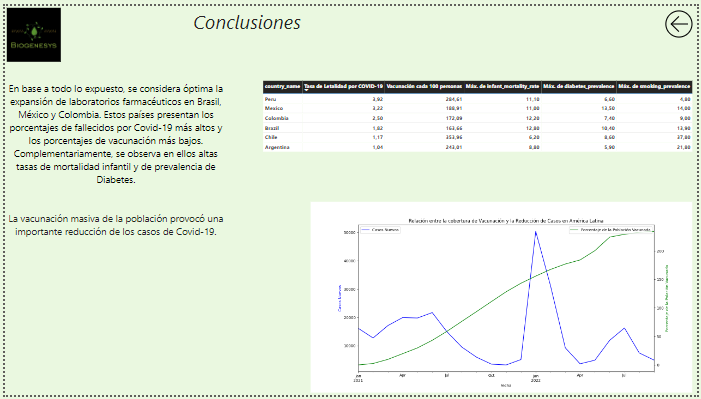

This screenshot's page, from the dashboard's own definition file:
{"tool":"powerbi","page":{"name":"CONCLUSIONES","canvas":[1920,1080],"ordinal":4},"visuals":[{"type":"pythonVisual","fields":{"Values":["Sum(DatosFinales.population)"]},"box":[840,540,1080,540],"z":0},{"type":"textbox","box":[345,0,655,125],"z":1000},{"type":"textbox","box":[0,567.5,615,90],"z":2000},{"type":"tableEx","fields":{"Values":["DatosFinales.country_name","Medidas.Tasa de Letalidad por COVID-19","Medidas.Vacunación cada 100 personas","Max(DatosFinales.infant_mortality_rate)","Max(DatosFinales.diabetes_prevalence)","Max(DatosFinales.smoking_prevalence)"]},"box":[710,204,1210,218],"z":3000},{"type":"textbox","box":[0,205,615,322.5],"z":4000},{"type":"actionButton","box":[1826,0,94,100],"z":5000},{"type":"image","box":[0,0,160,160],"z":6000}]}

Visuals, with their boxes in screenshot pixels (x1, y1, x2, y2), scaled from the page's 1920x1080 canvas onto the 701x399 screenshot:
pythonVisual - Sum(DatosFinales.population): (left=307, top=200, right=700, bottom=398)
textbox: (left=126, top=0, right=365, bottom=46)
textbox: (left=0, top=210, right=225, bottom=243)
tableEx - DatosFinales.country_name x Medidas.Tasa de Letalidad por COVID-19: (left=259, top=75, right=700, bottom=156)
textbox: (left=0, top=76, right=225, bottom=195)
actionButton: (left=667, top=0, right=700, bottom=37)
image: (left=0, top=0, right=58, bottom=59)
